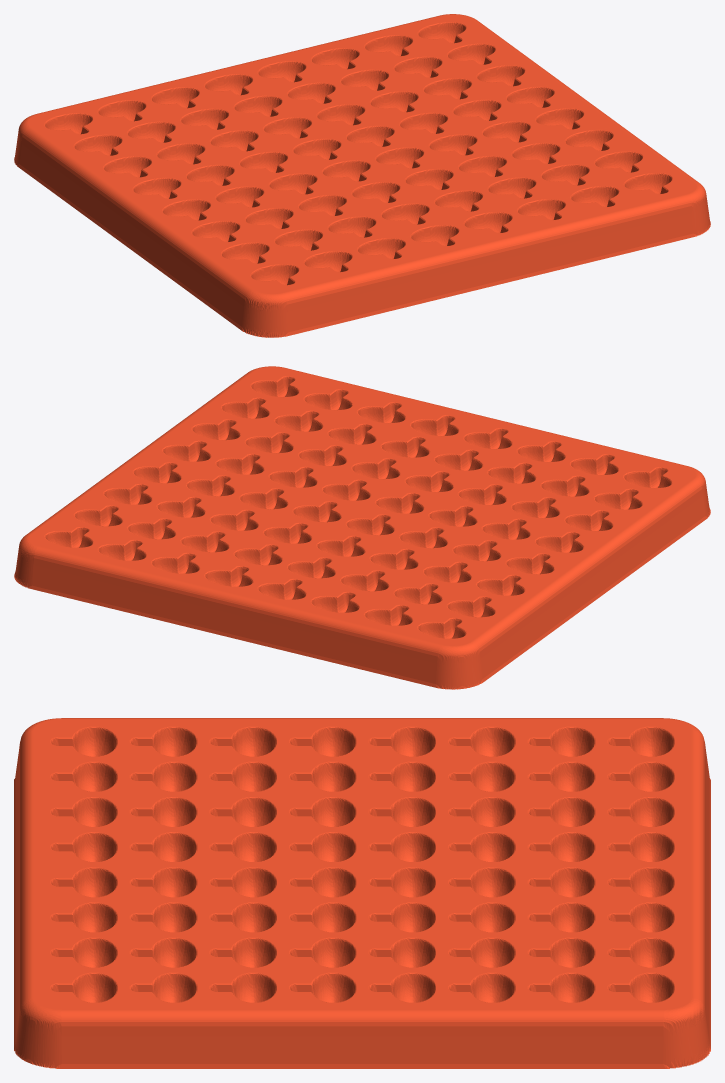
File: mold.glb
3 renders of one model, top to bottom at view 1: azimuth 30°, elevation 25°; view 2: azimuth 150°, elevation 25°; view 3: azimuth 270°, elevation 25°, orthographic. The views are drawn at different scales.
Visible parts, largest first — view 1: geometry_0; view 2: geometry_0; view 3: geometry_0.
Boxes of the visible parts, left/top/right/bottom form: geometry_0: left=14, top=14, right=710, bottom=337; geometry_0: left=14, top=366, right=710, bottom=689; geometry_0: left=14, top=718, right=710, bottom=1068.
Bounding box in the file's own units: 0.1355 × 0.0105 × 0.1301.
